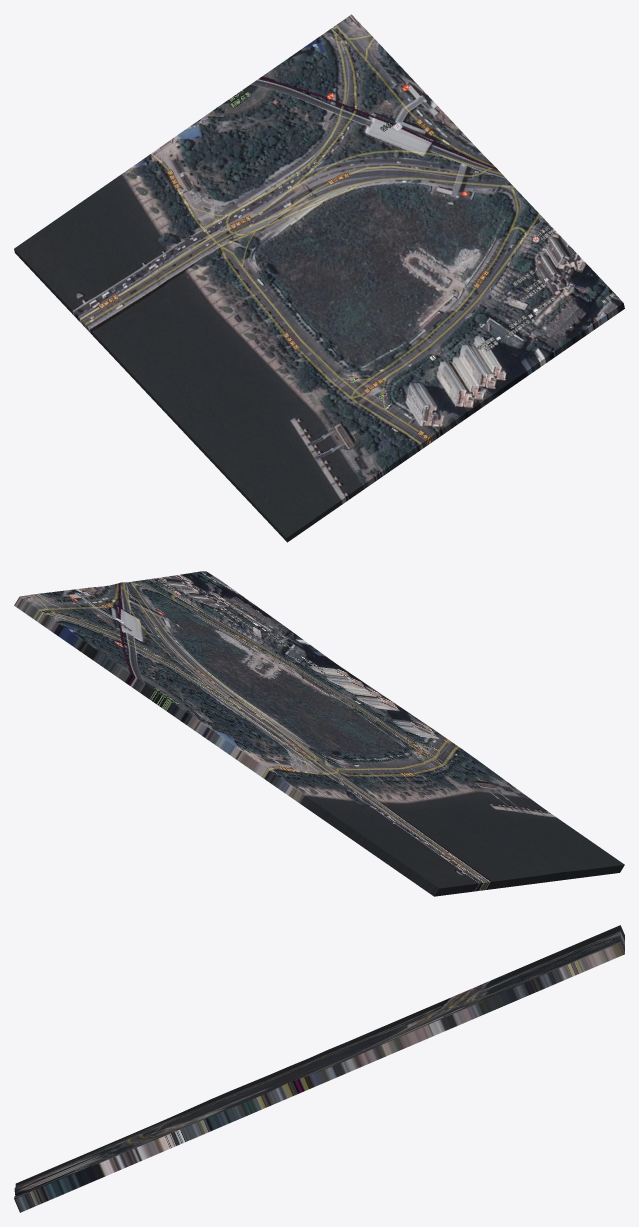
The picture shows the model from 3 angles, top to bottom: view 1: azimuth 30°, elevation 25°; view 2: azimuth 150°, elevation 25°; view 3: azimuth 270°, elevation 25°; orthographic projection. The views are drawn at different scales.
Parts seen in each view (by area): view 1: 0_4_1; view 2: 0_4_1; view 3: 0_4_1.
Boxes of the visible parts, left/top/right/bottom form: 0_4_1: left=14, top=14, right=624, bottom=542; 0_4_1: left=14, top=571, right=624, bottom=896; 0_4_1: left=14, top=925, right=624, bottom=1212.
Bounding box in the file's own units: 596 × 437 × 547.
Materials: 1 (1 with a texture image).
